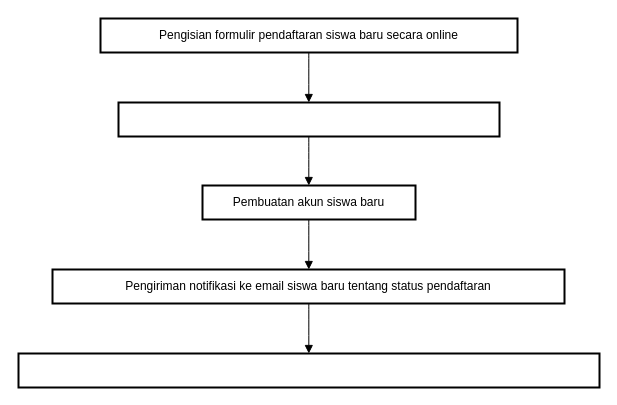
The diagram is 617 pixels wide and 405 high, and some of its shapes have lost their labels. Each missing label, with the centre of its shape:
"Penyimpanan data pendaftaran siswa baru ke dalam database sistem informasi" belongs at point (308, 370).
"Verifikasi data pendaftaran oleh petugas akademik" belongs at point (308, 119).
